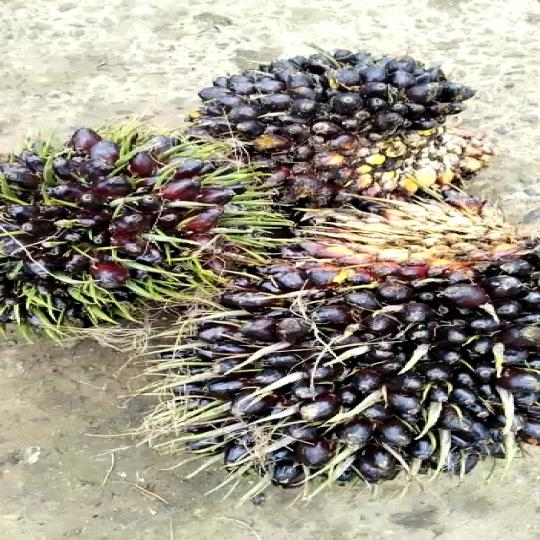mentah: (177, 219, 540, 492), (1, 119, 268, 336), (185, 43, 498, 222)
